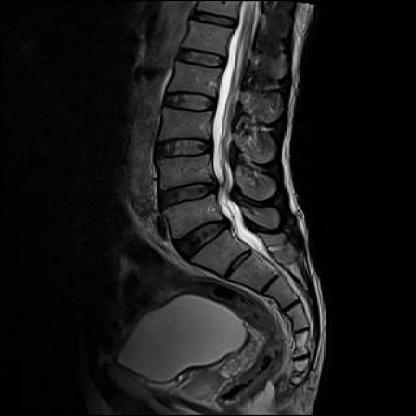Disc Bulgerotation: (168, 217, 242, 253)
